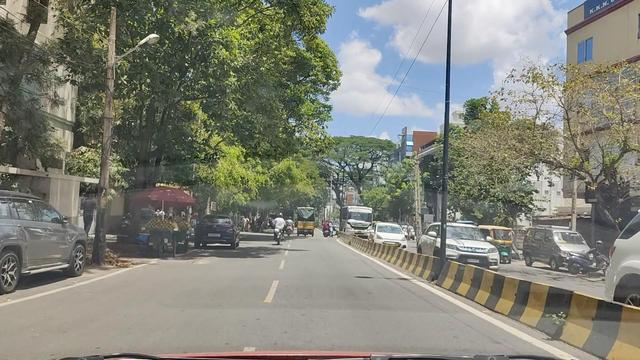LMV: (197, 217, 249, 254), (270, 210, 289, 245)
